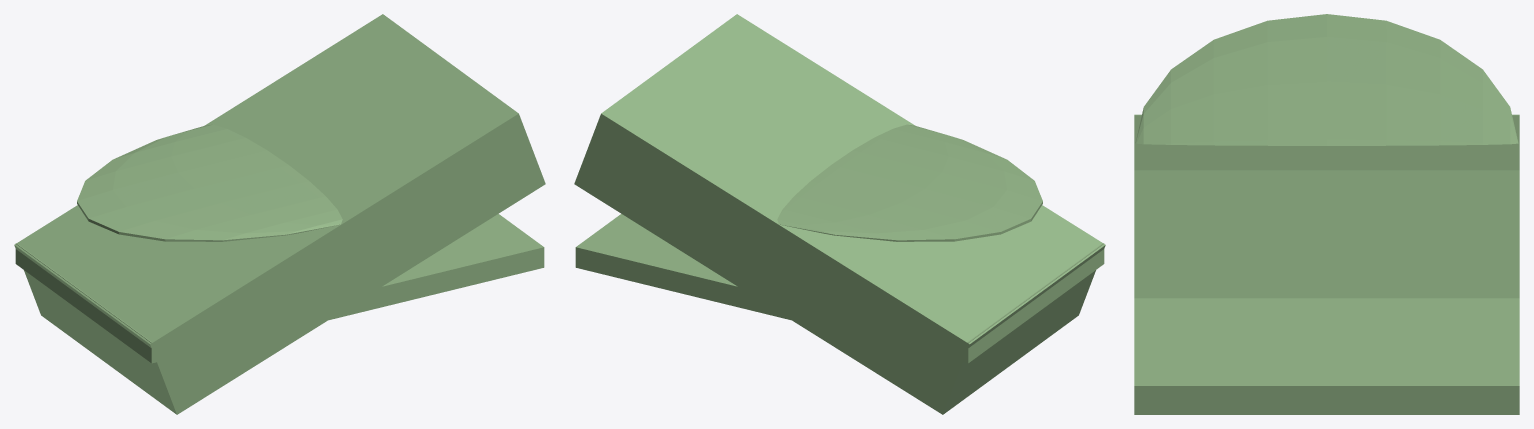
Rendered from johnny_cake_hill.glb.
3 views of the same model, side by side, from view 1: azimuth 30°, elevation 25°; view 2: azimuth 150°, elevation 25°; view 3: azimuth 270°, elevation 25° (orthographic). The views are drawn at different scales.
Visible parts, largest first — view 1: wedge, crest, base; view 2: wedge, crest, base; view 3: wedge, base, crest.
Boxes of the visible parts, box(x1,y1,x2,y2) form: wedge: box(14, 14, 545, 414); crest: box(77, 124, 342, 241); base: box(15, 214, 544, 363); wedge: box(574, 14, 1105, 414); crest: box(777, 124, 1042, 241); base: box(575, 214, 1104, 363); wedge: box(1134, 115, 1519, 298); base: box(1134, 114, 1519, 414); crest: box(1135, 14, 1518, 145).
Size of the model in its own units: 20.16 by 10.62 by 12.
